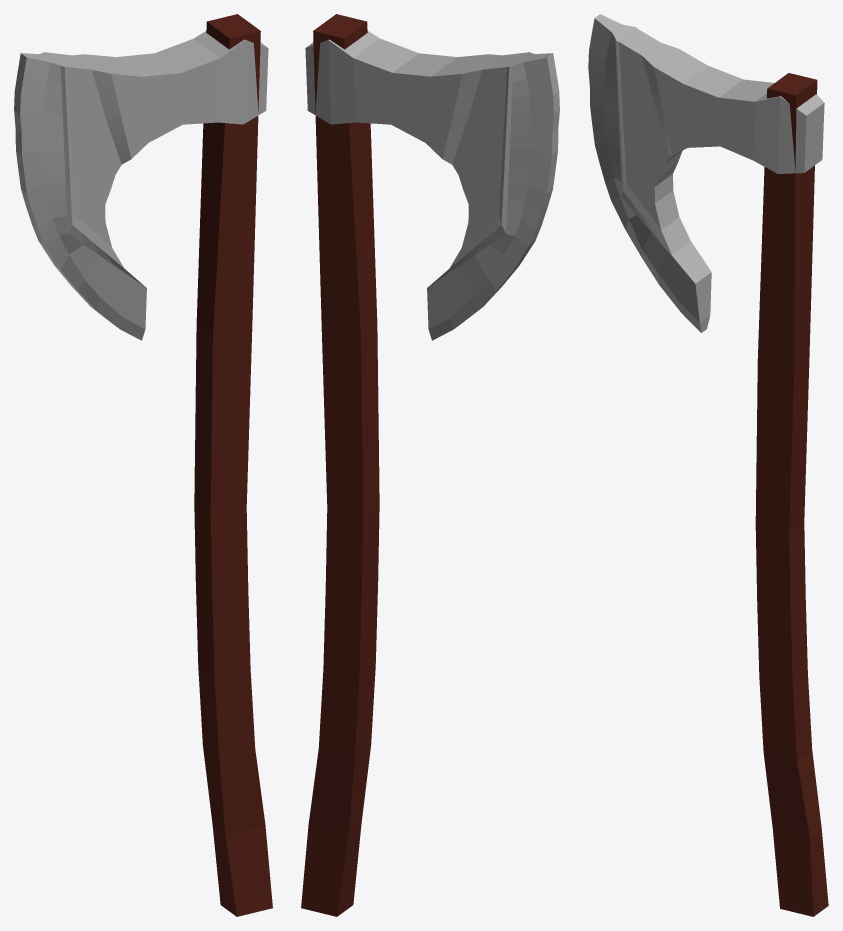
File: viking_axe.fbx
3 views of the same model, side by side, from view 1: azimuth 30°, elevation 25°; view 2: azimuth 150°, elevation 25°; view 3: azimuth 330°, elevation 25° (orthographic). The views are drawn at different scales.
Visible parts, largest first — view 1: Cube; view 2: Cube; view 3: Cube.
Boxes of the visible parts, x1,y1,x2,y2 form: Cube: [14, 14, 272, 916]; Cube: [301, 14, 559, 916]; Cube: [588, 14, 828, 916].
Size of the model in its own units: 291 by 1016 by 54.52.
